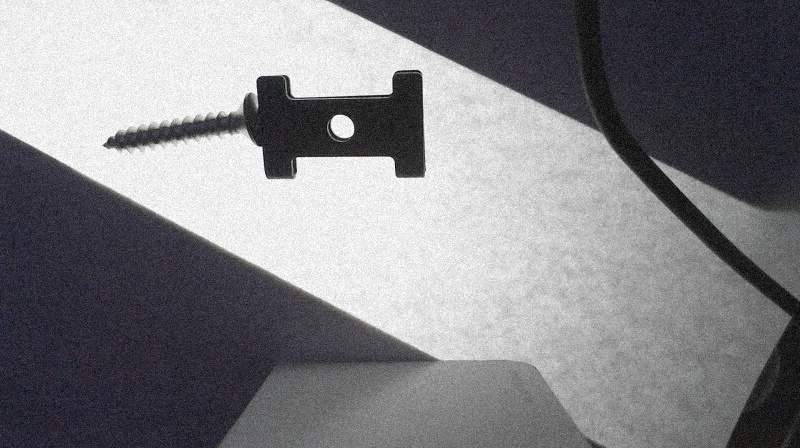O002: (256, 69, 426, 179)
S001: (102, 90, 258, 151)
